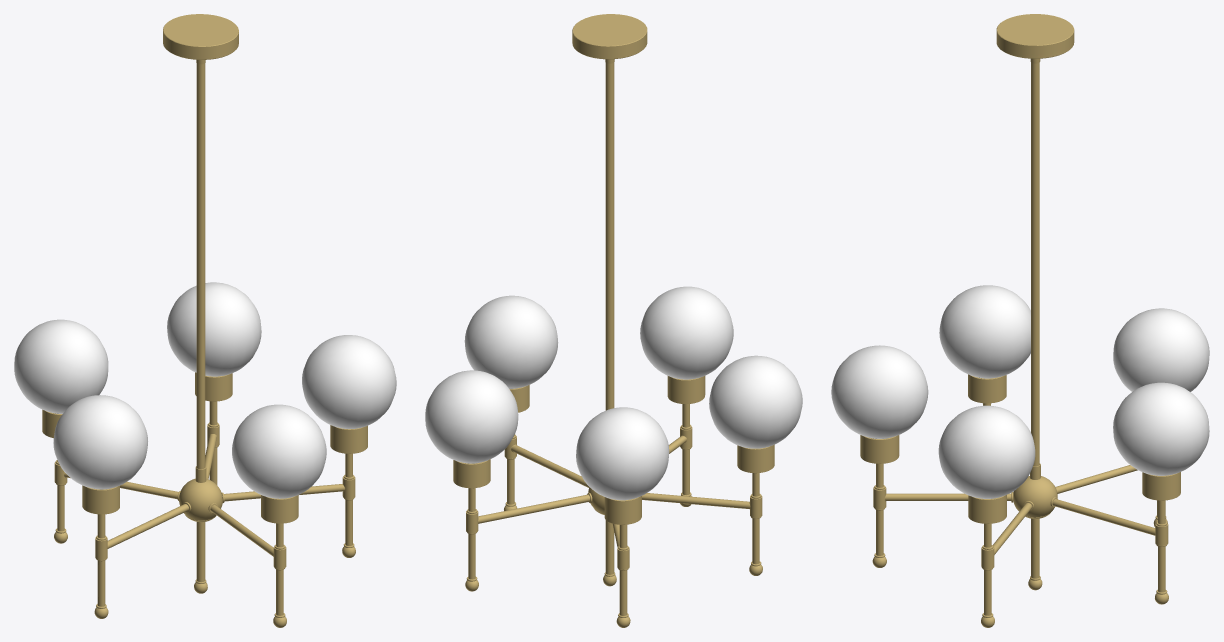
The model's file is abo-B07DTLWMPR.glb.
The picture shows the model from 3 angles, left to right: view 1: azimuth 30°, elevation 25°; view 2: azimuth 150°, elevation 25°; view 3: azimuth 270°, elevation 25°; orthographic projection.
Bounding box in the file's own units: 0.815 × 1.33 × 0.815.
1 material, 1 textured.
